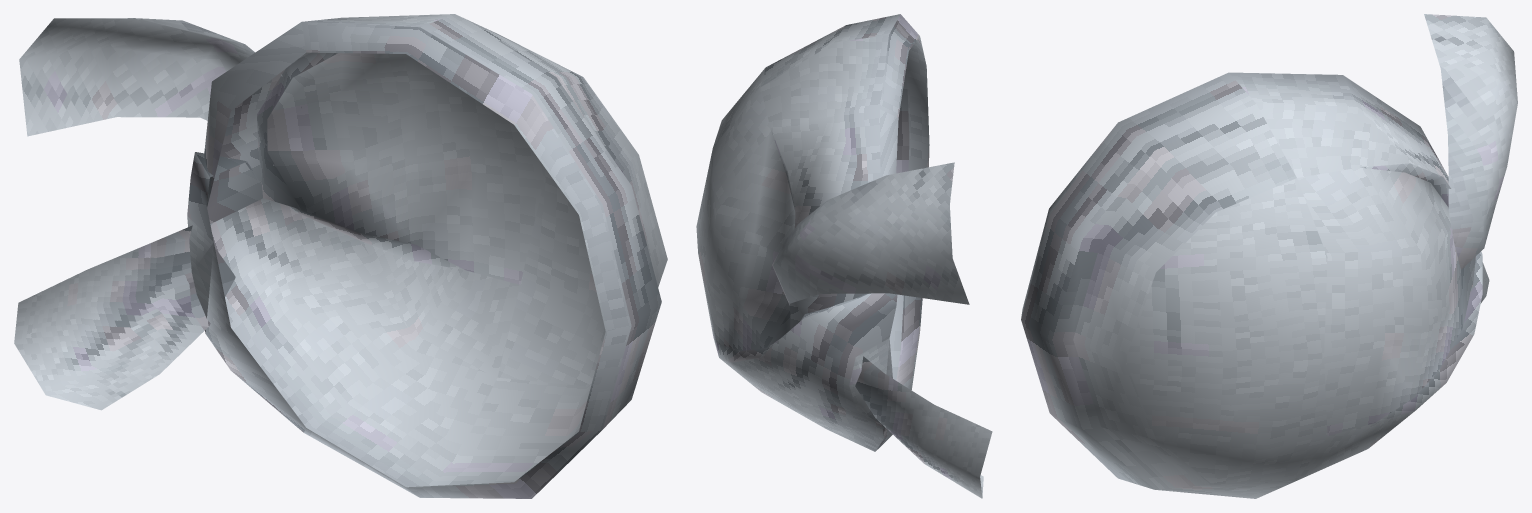
Rendered from cap_towel.dae.
3 renders of one model, left to right at view 1: azimuth 30°, elevation 25°; view 2: azimuth 150°, elevation 25°; view 3: azimuth 270°, elevation 25°, orthographic. The views are drawn at different scales.
Parts seen in each view (by area): view 1: cap_towel; view 2: cap_towel; view 3: cap_towel.
Part boxes in pixels (x1,y1,x2,y2): cap_towel: (14,14,667,498); cap_towel: (696,14,992,498); cap_towel: (1021,14,1517,498).
Size of the model in its own units: 23.79 by 22.96 by 24.98.
Materials: 1 (1 with a texture image).
